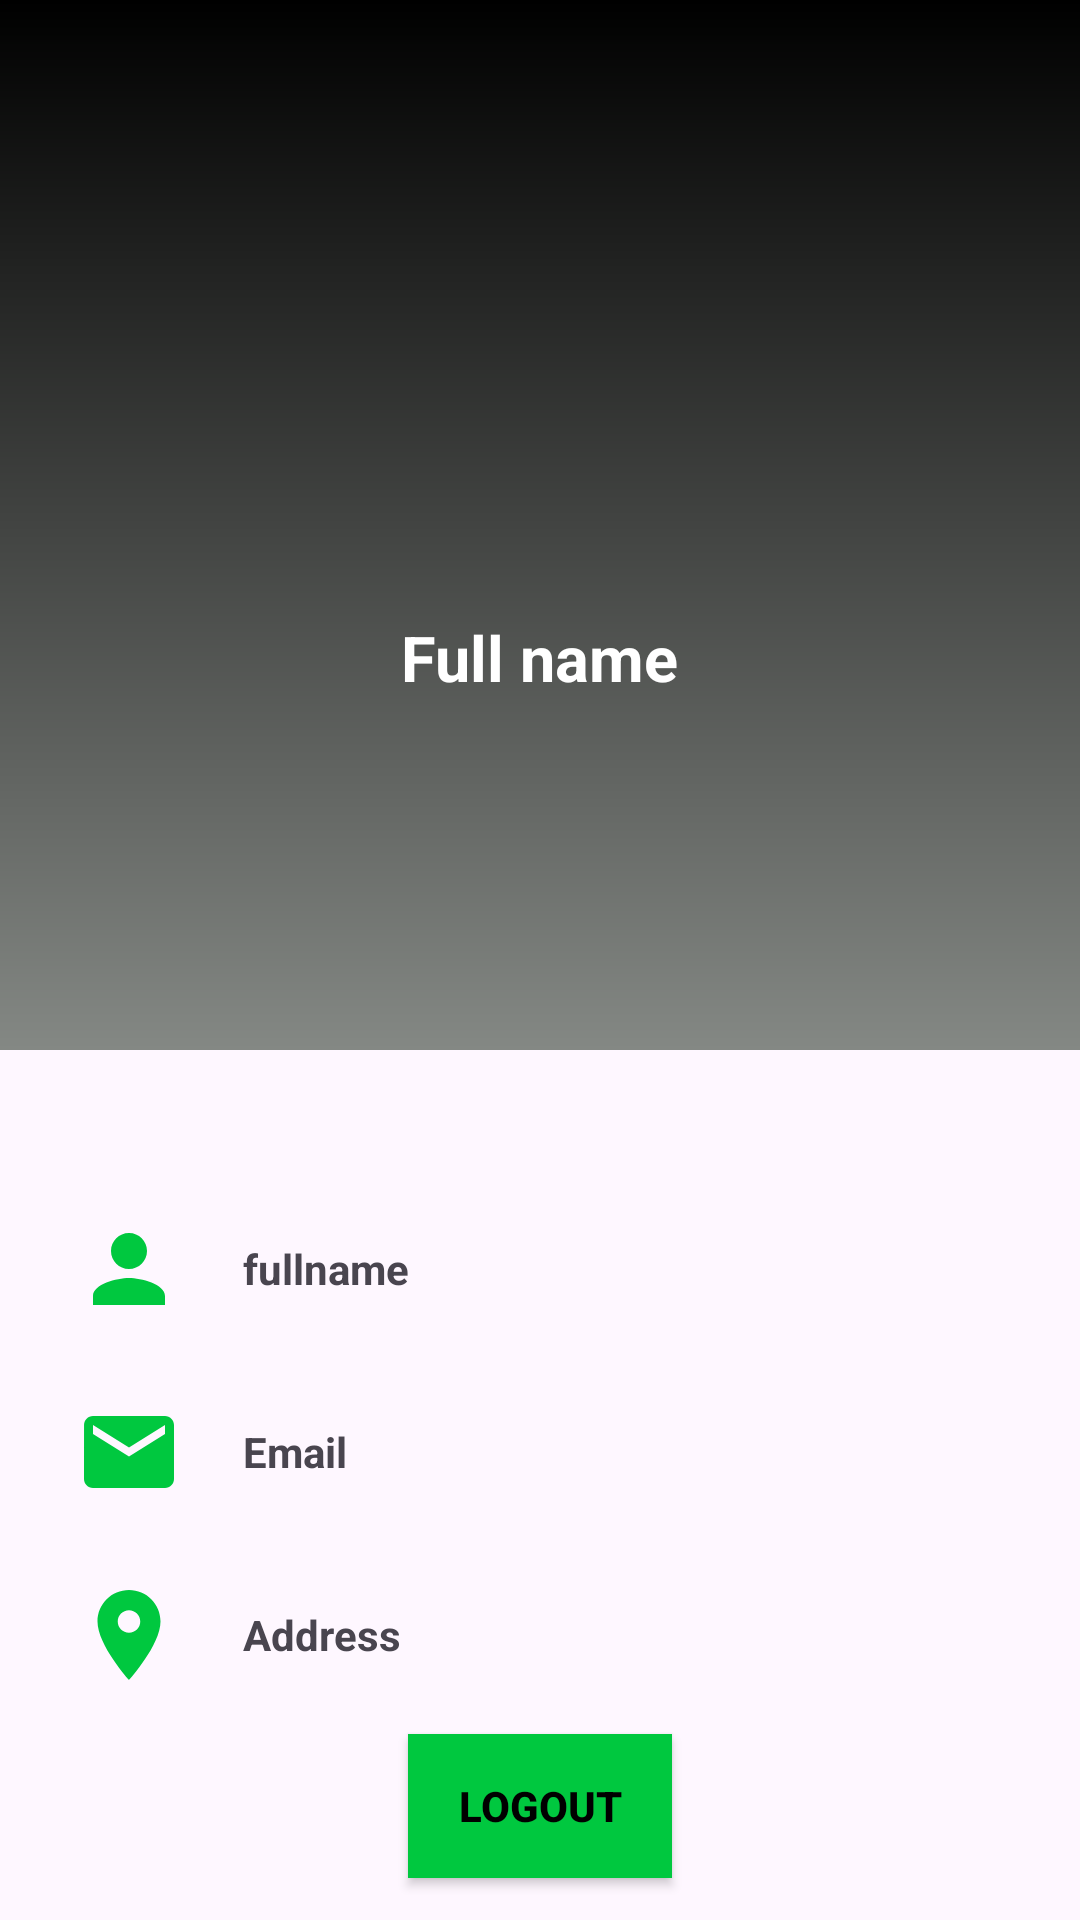

Where icons sit on this 1080x1920 app screen, as (x1=x1, y1=y1, x2=x2, y2=y2):
location on: (x1=97, y1=1590, x2=161, y2=1680)
person: (x1=93, y1=1233, x2=165, y2=1305)
